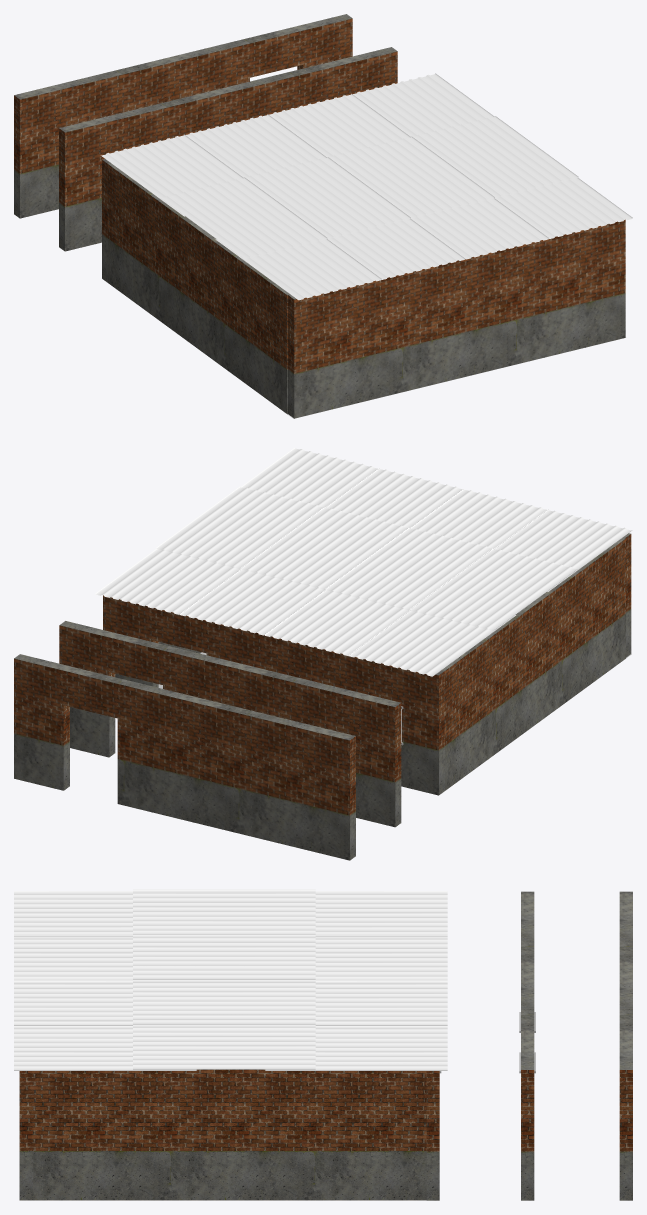
The model's file is BrickHouse.fbx.
3 renders of one model, top to bottom at view 1: azimuth 30°, elevation 25°; view 2: azimuth 150°, elevation 25°; view 3: azimuth 270°, elevation 25°, orthographic. The views are drawn at different scales.
Parts seen in each view (by area): view 1: Roof, WallBack, WallSide2, WallFront3, WallFront2, WallFront1; view 2: Roof, WallFront3, WallSide2, WallFront2, WallFront1, WallBack; view 3: Roof, WallSide1, WallFront2, WallFront3, WallBack, WallFront1, Floor.
Boxes of the visible parts, left/top/right/bottom form: Roof: left=100, top=73, right=632, bottom=300; WallBack: left=288, top=219, right=625, bottom=418; WallSide2: left=108, top=163, right=289, bottom=414; WallFront3: left=14, top=14, right=352, bottom=218; WallFront2: left=59, top=47, right=397, bottom=251; WallFront1: left=102, top=159, right=110, bottom=282; Roof: left=95, top=447, right=631, bottom=676; WallFront3: left=14, top=654, right=355, bottom=860; WallSide2: left=442, top=537, right=625, bottom=790; WallFront2: left=59, top=621, right=401, bottom=827; WallFront1: left=103, top=595, right=444, bottom=795; WallBack: left=623, top=533, right=631, bottom=657; Roof: left=14, top=889, right=447, bottom=1070; WallSide1: left=33, top=1069, right=426, bottom=1200; WallFront2: left=519, top=891, right=535, bottom=1200; WallFront3: left=619, top=891, right=632, bottom=1200; WallBack: left=19, top=1071, right=33, bottom=1200; WallFront1: left=426, top=1071, right=441, bottom=1200; Floor: left=19, top=1071, right=426, bottom=1200.
Size of the model in its own units: 8.41 by 2.91 by 12.2.
